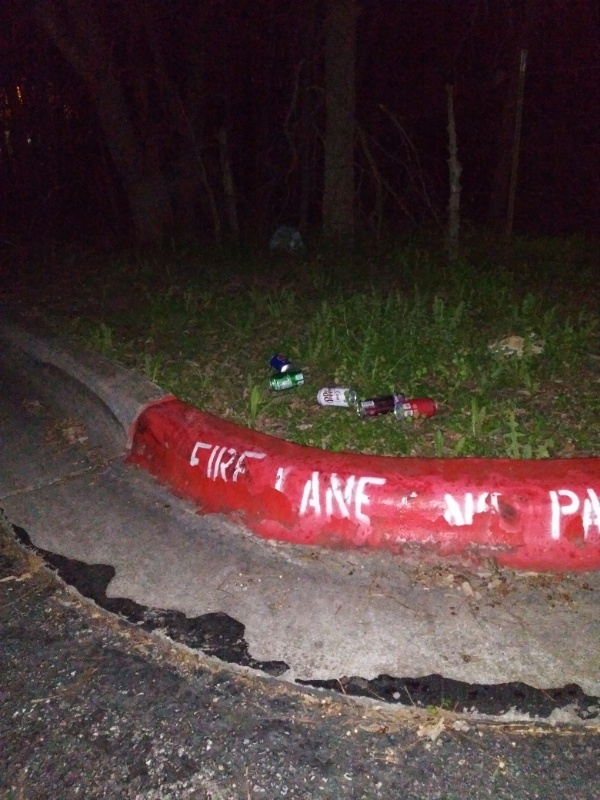can: (354, 392, 408, 420), (393, 396, 440, 422), (314, 384, 359, 409), (263, 370, 309, 392), (266, 352, 296, 374)
